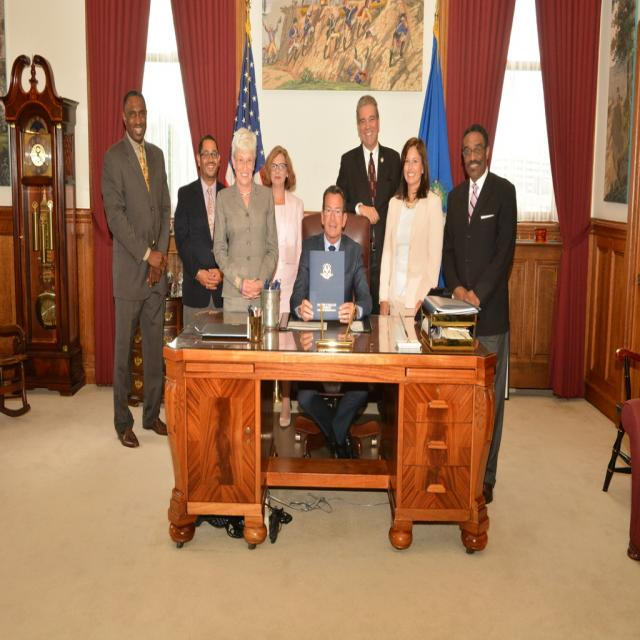chair: (603, 346, 640, 542), (0, 318, 29, 413), (343, 212, 371, 298)
desk: (170, 267, 514, 569)
person: (440, 126, 516, 502), (100, 91, 172, 448), (286, 185, 374, 454), (336, 94, 402, 316), (212, 129, 280, 316), (174, 134, 229, 323)
